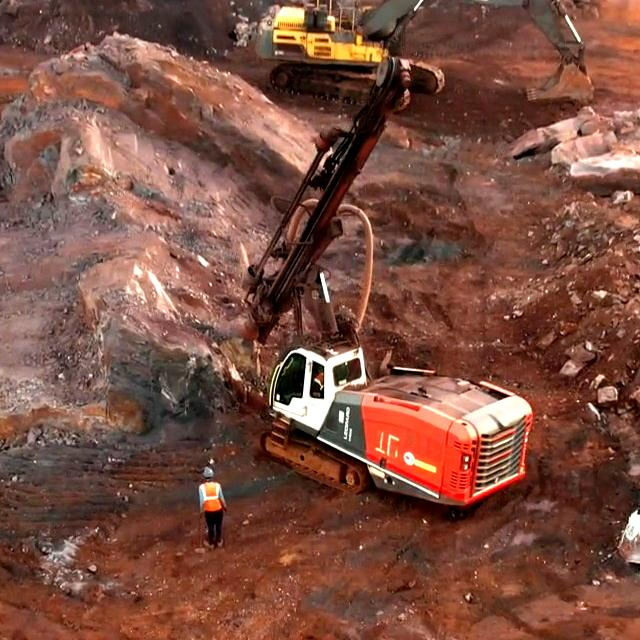Blast rig: (257, 345, 543, 510)
Excavator: (261, 0, 412, 80)
person: (201, 467, 225, 545)
